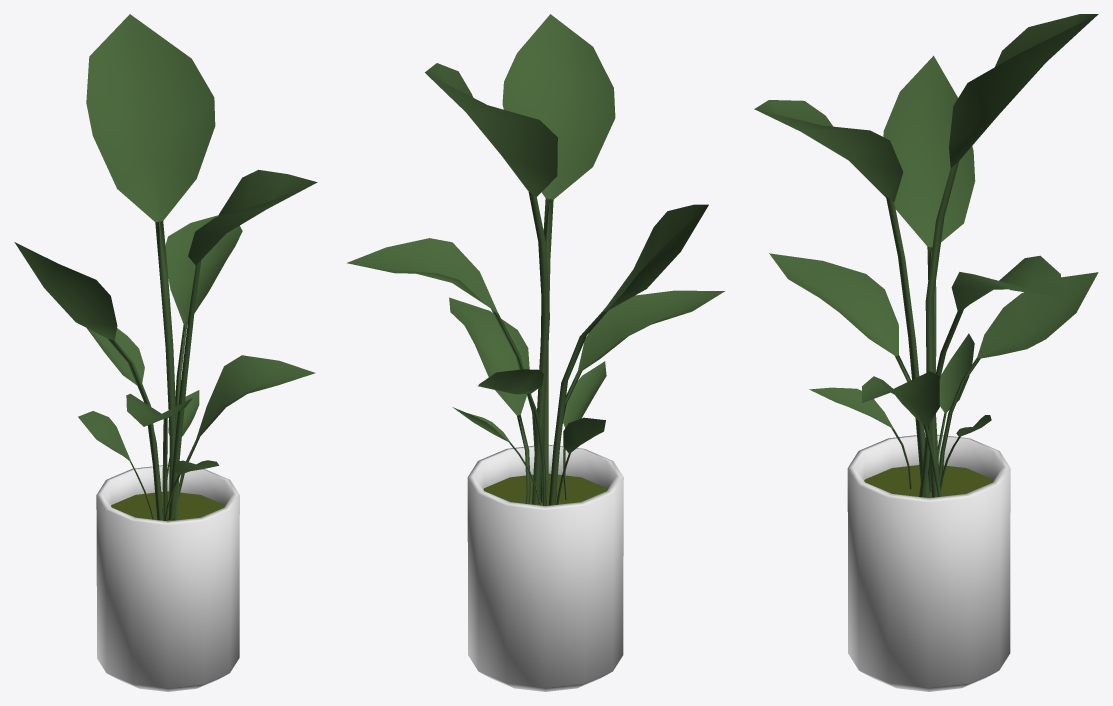
The model's file is plant3.glb.
3 renders of one model, left to right at view 1: azimuth 30°, elevation 25°; view 2: azimuth 150°, elevation 25°; view 3: azimuth 270°, elevation 25°, orthographic. The views are drawn at different scales.
Parts seen in each view (by area): view 1: Cube.002_0, Plane.003_5, Plane.001_3, Plane_1, Plane.010_19, Plane.005_9, Circle_21, Plane.004_7, Plane.006_11, Plane.008_15, Plane.007_13, Plane.009_17; view 2: Cube.002_0, Plane.001_3, Plane.003_5, Plane_1, Plane.010_19, Plane.004_7, Plane.005_9, Circle_21, Plane.006_11, Plane.007_13, Plane.008_15, Plane.009_17; view 3: Cube.002_0, Plane_1, Plane.003_5, Plane.001_3, Plane.004_7, Plane.006_11, Plane.010_19, Plane.005_9, Circle_21, Plane.008_15, Plane.007_13.
Boxes of the visible parts, x1=… form: Cube.002_0: x1=96, y1=464, x2=239, y2=691; Plane.003_5: x1=86, y1=14, x2=215, y2=497; Plane.001_3: x1=168, y1=169, x2=317, y2=519; Plane_1: x1=14, y1=242, x2=162, y2=520; Plane.010_19: x1=165, y1=215, x2=242, y2=520; Plane.005_9: x1=178, y1=355, x2=315, y2=497; Circle_21: x1=111, y1=491, x2=225, y2=521; Plane.004_7: x1=126, y1=393, x2=192, y2=521; Plane.006_11: x1=87, y1=328, x2=162, y2=513; Plane.008_15: x1=78, y1=411, x2=154, y2=519; Plane.007_13: x1=164, y1=460, x2=218, y2=520; Plane.009_17: x1=162, y1=390, x2=199, y2=511; Cube.002_0: x1=467, y1=445, x2=623, y2=691; Plane.001_3: x1=502, y1=14, x2=615, y2=502; Plane.003_5: x1=425, y1=63, x2=557, y2=504; Plane_1: x1=548, y1=204, x2=708, y2=505; Plane.010_19: x1=347, y1=238, x2=540, y2=499; Plane.004_7: x1=555, y1=290, x2=724, y2=501; Plane.005_9: x1=449, y1=297, x2=530, y2=503; Circle_21: x1=483, y1=473, x2=607, y2=505; Plane.006_11: x1=478, y1=369, x2=546, y2=505; Plane.007_13: x1=563, y1=361, x2=606, y2=500; Plane.008_15: x1=556, y1=417, x2=605, y2=504; Plane.009_17: x1=452, y1=407, x2=541, y2=505; Cube.002_0: x1=847, y1=434, x2=1010, y2=691; Plane_1: x1=883, y1=55, x2=975, y2=492; Plane.003_5: x1=925, y1=14, x2=1098, y2=497; Plane.001_3: x1=754, y1=100, x2=929, y2=497; Plane.004_7: x1=769, y1=253, x2=925, y2=438; Plane.006_11: x1=939, y1=272, x2=1098, y2=483; Plane.010_19: x1=919, y1=255, x2=1063, y2=497; Plane.005_9: x1=862, y1=371, x2=941, y2=496; Circle_21: x1=864, y1=465, x2=993, y2=497; Plane.008_15: x1=938, y1=333, x2=974, y2=457; Plane.007_13: x1=809, y1=387, x2=911, y2=489.
Bounding box in the file's own units: 0.6201 × 1.27 × 0.5908.
